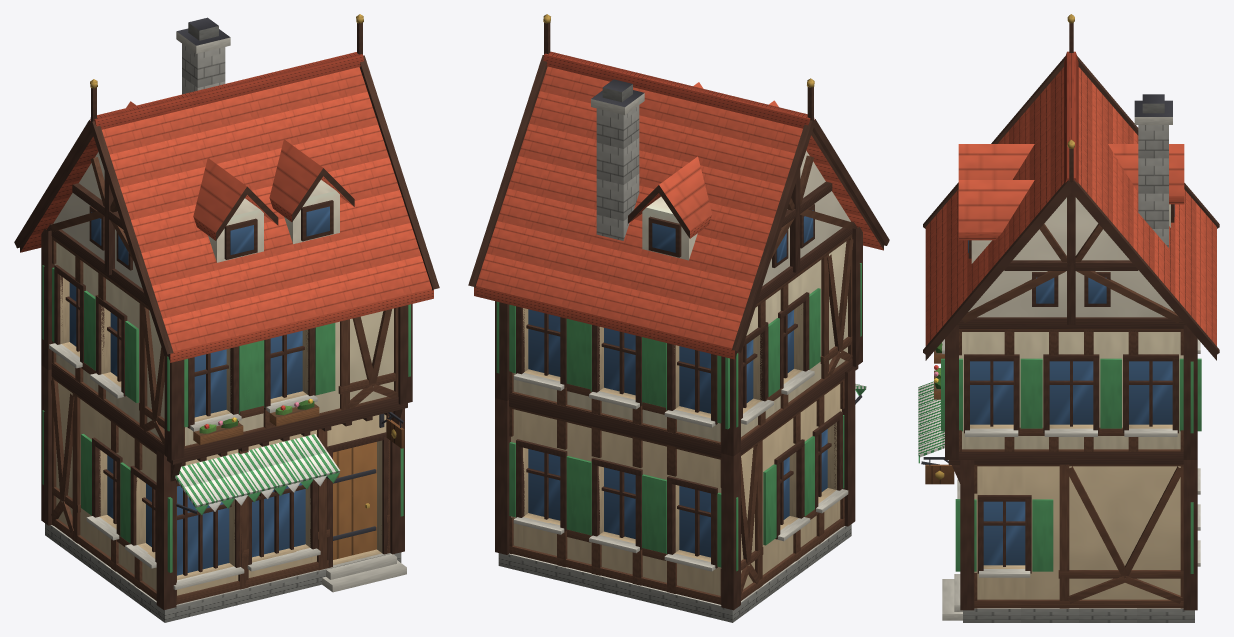
File: biz_general_store_01.glb
The picture shows the model from 3 angles, left to right: view 1: azimuth 30°, elevation 25°; view 2: azimuth 150°, elevation 25°; view 3: azimuth 270°, elevation 25°; orthographic projection. The views are drawn at different scales.
Visible parts, largest first — view 1: biz_general_store_01; view 2: biz_general_store_01; view 3: biz_general_store_01.
Boxes of the visible parts, x1,y1,x2,y2 form: biz_general_store_01: (14, 14, 439, 622); biz_general_store_01: (468, 14, 889, 622); biz_general_store_01: (918, 14, 1219, 622).
Bounding box in the file's own units: 6.99 × 12.39 × 6.9.
Materials: 1 (1 with a texture image).
